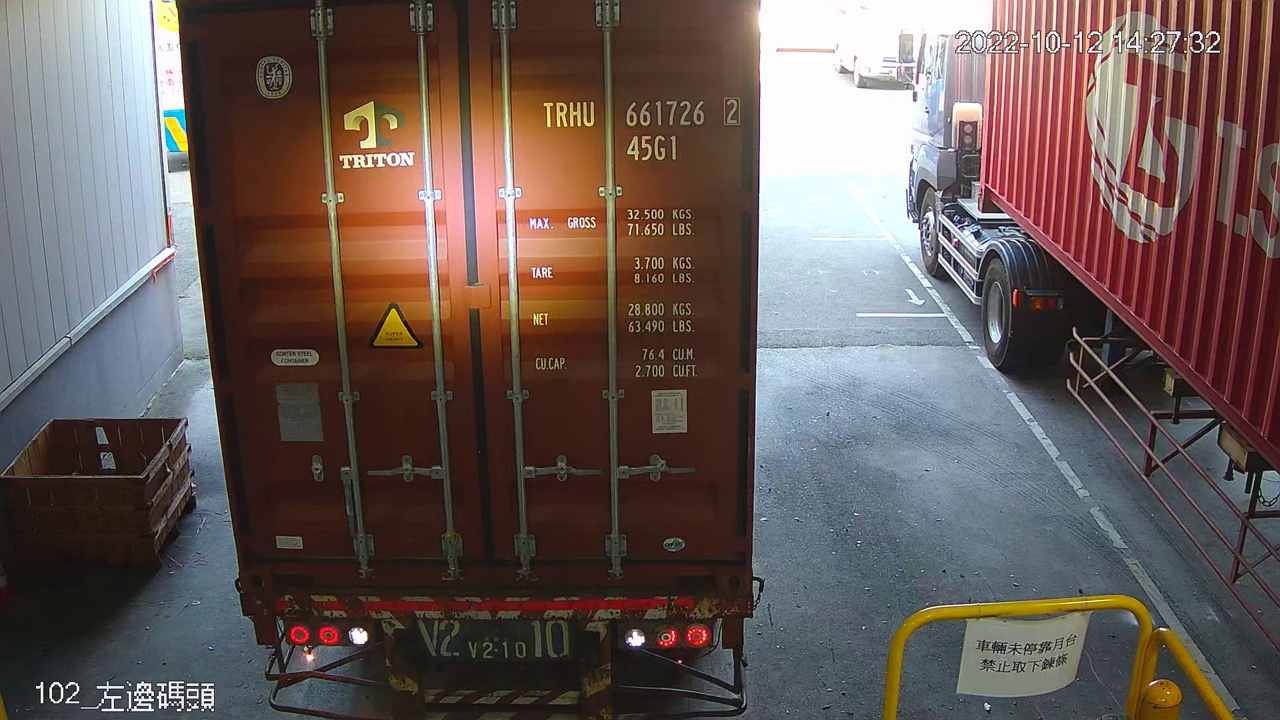container: (537, 92, 747, 167)
